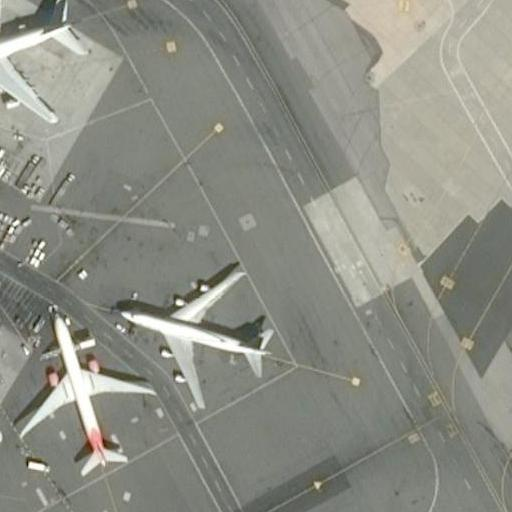Aircraft: (114, 249, 280, 408), (19, 307, 151, 478), (0, 0, 86, 127)
